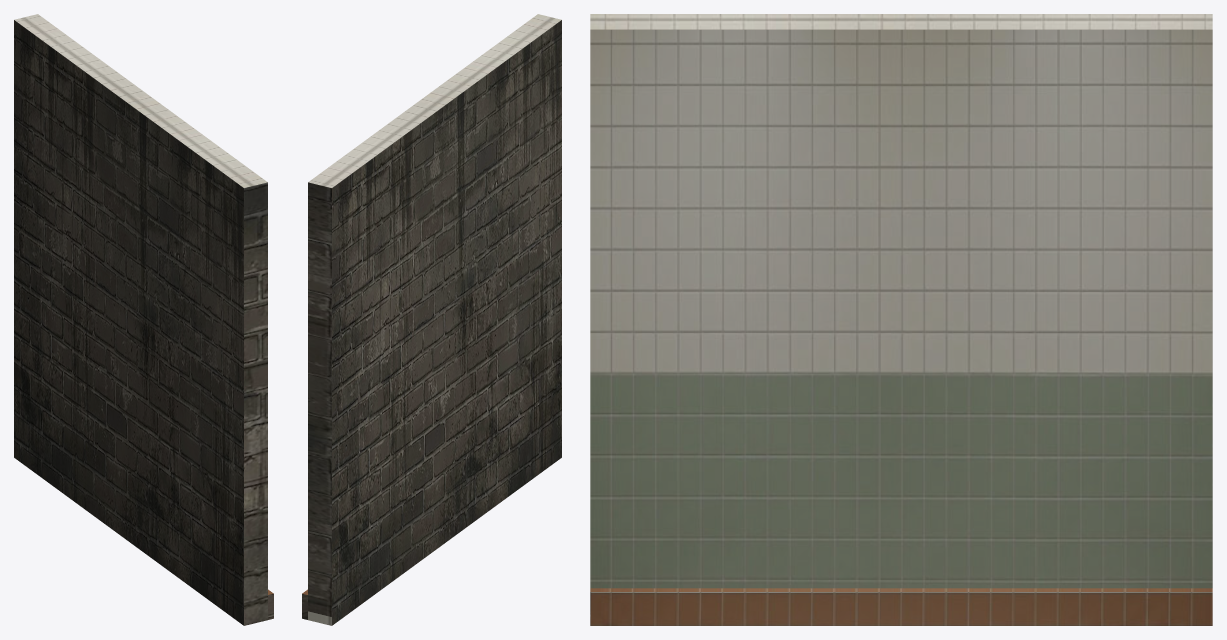
File: ParedExt_Int_Sinventanas.dae
3 renders of one model, left to right at view 1: azimuth 30°, elevation 25°; view 2: azimuth 150°, elevation 25°; view 3: azimuth 270°, elevation 25°, orthographic. The views are drawn at different scales.
Parts seen in each view (by area): view 1: Box002; view 2: Box002; view 3: Box002.
Part boxes in pixels (x1,y1,x2,y2): Box002: (14, 14, 273, 625); Box002: (302, 14, 561, 625); Box002: (590, 14, 1212, 625).
Size of the model in its own units: 15 by 210 by 200.
